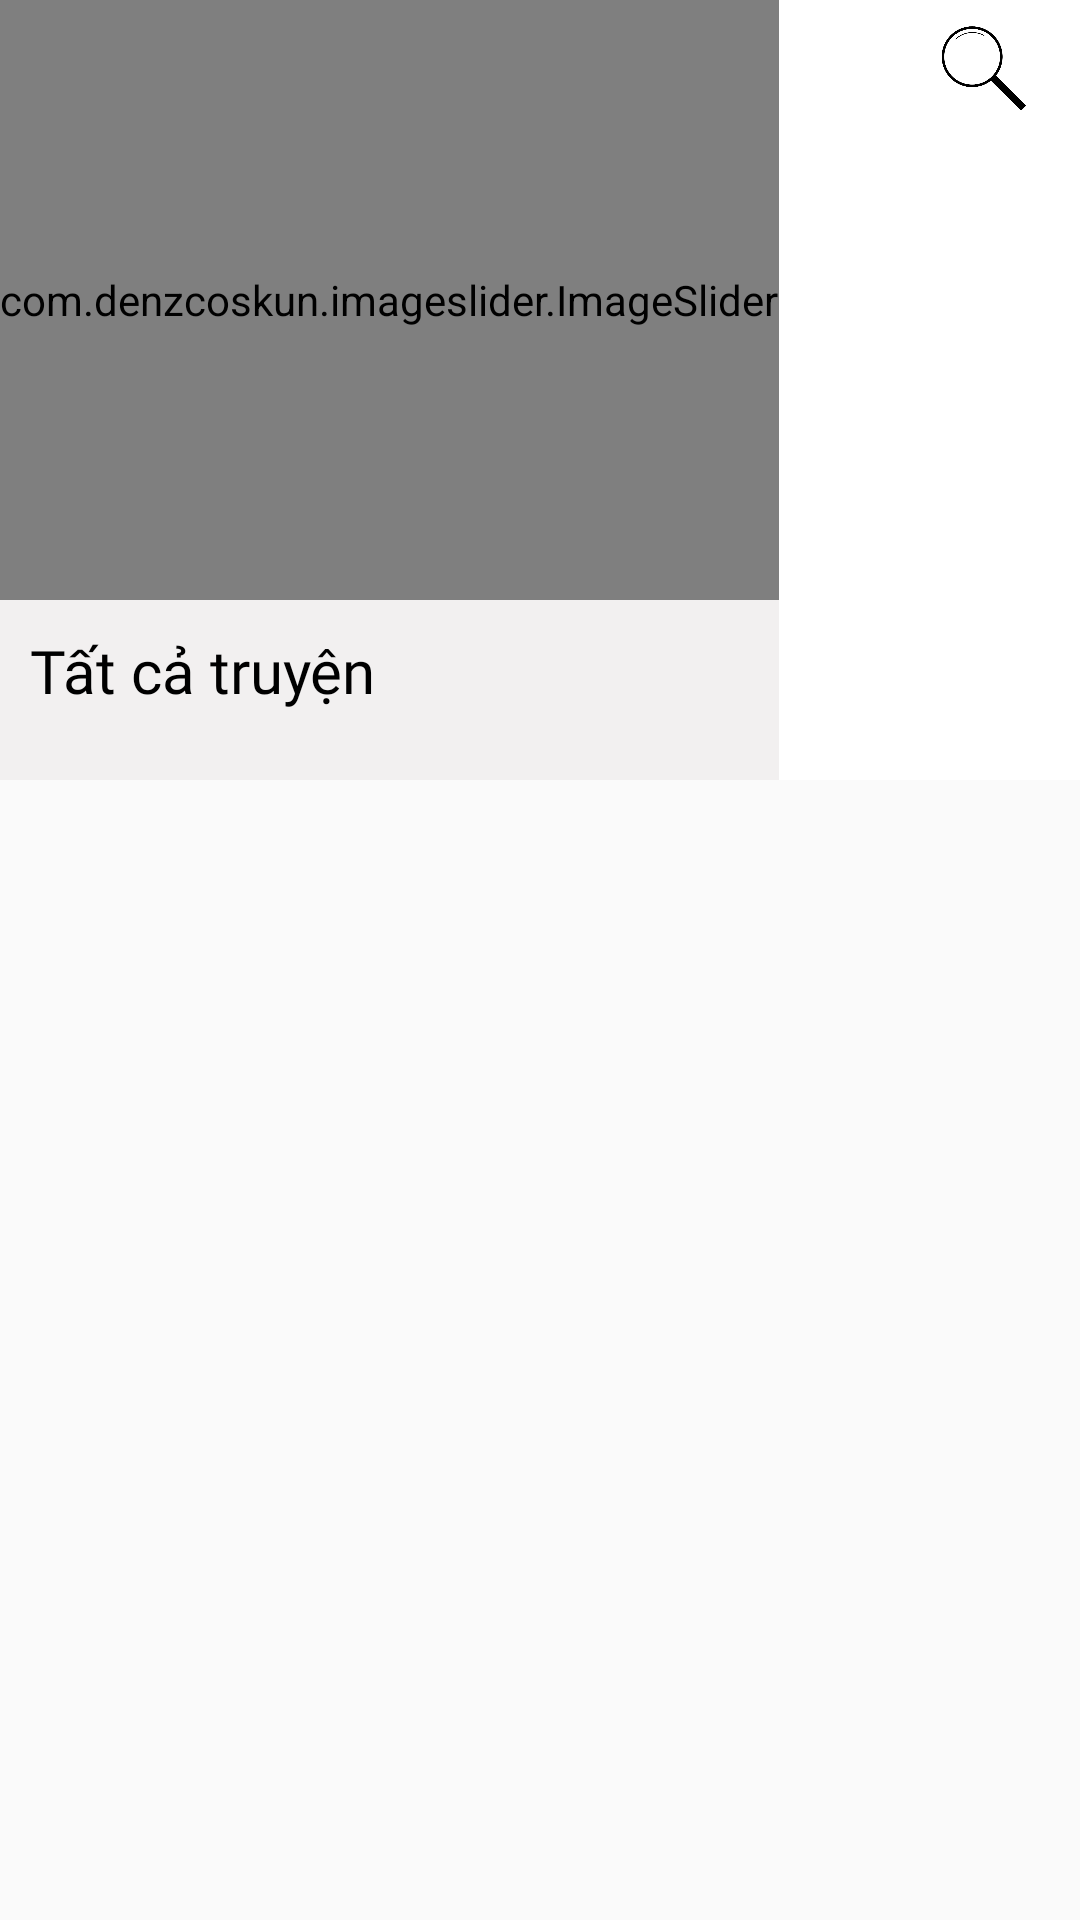

Icons on this 1080w x 1920h Android screen, each with its box as [x1=x1, y1=y1, x2=x2, y2=y2]:
search: [x1=942, y1=26, x2=1026, y2=110]
